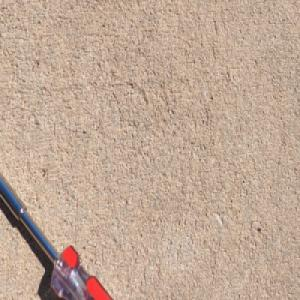Screwdriver: (0, 166, 114, 300)
